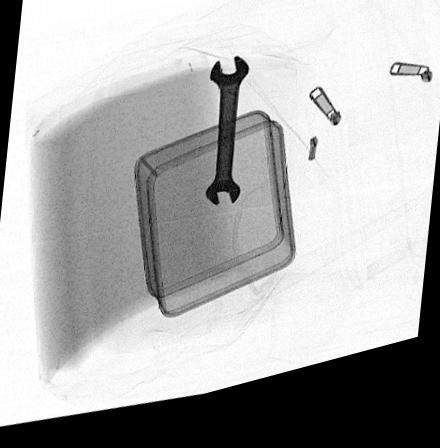Wrench: (205, 67, 249, 216)
